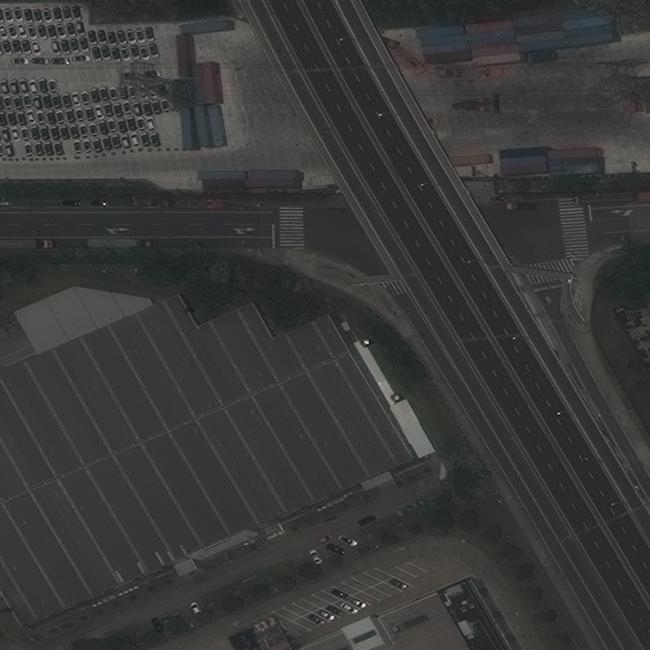parking lot: (272, 568, 413, 633)
